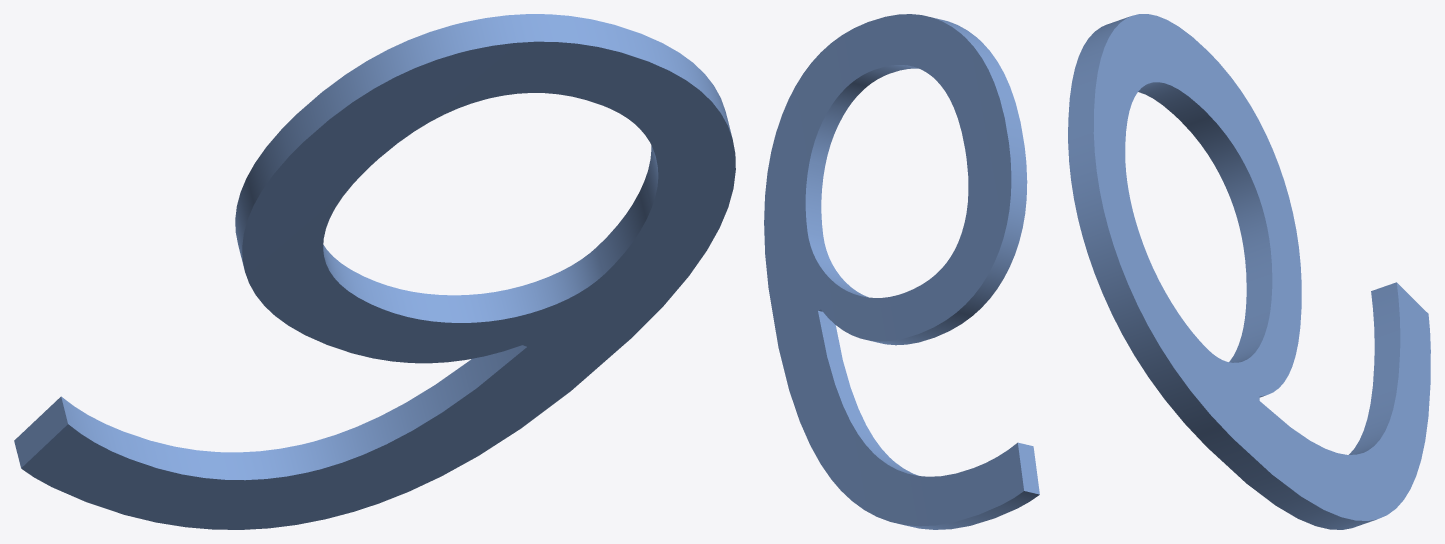
File: New_Number_6.gltf
3 views of the same model, side by side, from view 1: azimuth 30°, elevation 25°; view 2: azimuth 150°, elevation 25°; view 3: azimuth 270°, elevation 25° (orthographic). The views are drawn at different scales.
Parts seen in each view (by area): view 1: Part 42; view 2: Part 42; view 3: Part 42.
Boxes of the visible parts, x1,y1,x2,y2 form: Part 42: [14, 14, 735, 529]; Part 42: [764, 14, 1039, 529]; Part 42: [1068, 14, 1430, 529].
Bounding box in the file's own units: 0.00452 × 0.00478 × 0.00306.
